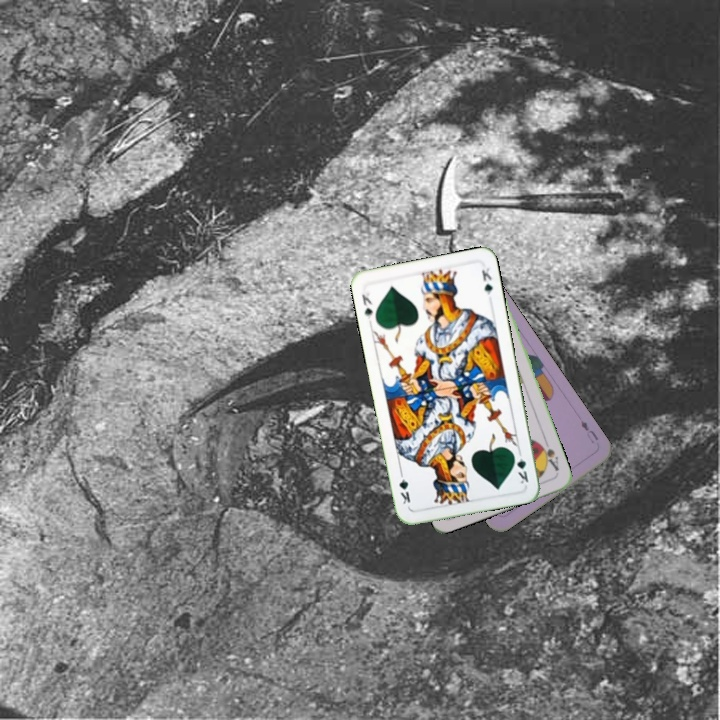EU: (577, 416, 601, 446)
GK: (509, 447, 531, 486), (358, 288, 375, 325)
SA: (535, 436, 561, 474)
